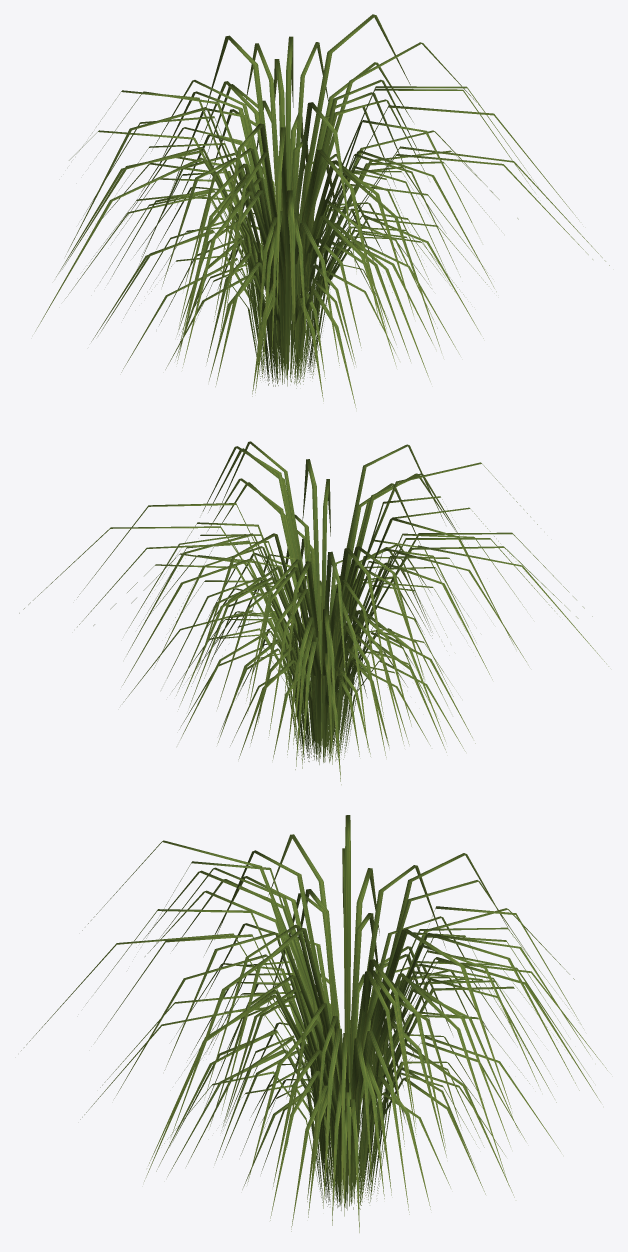
The model's file is b-grass.glb.
The picture shows the model from 3 angles, top to bottom: view 1: azimuth 30°, elevation 25°; view 2: azimuth 150°, elevation 25°; view 3: azimuth 270°, elevation 25°; orthographic projection. The views are drawn at different scales.
Parts seen in each view (by area): view 1: Foliage; view 2: Foliage; view 3: Foliage.
Part boxes in pixels (box(x1,y1,x2,y2)): Foliage: box(35, 14, 609, 408); Foliage: box(19, 441, 608, 784); Foliage: box(21, 815, 607, 1232).
Bounding box in the file's own units: 1.26 × 0.65 × 1.09.
1 material, 1 textured.
